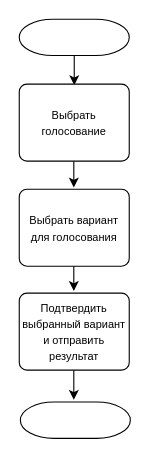
Image size: 150x458. Some labels were removed from this diagram. The shapes that lost their labels are listed below. From the top down, each one's centre as x and y in pixels, then its label:
the point at 73,37: Начало
the point at 74,419: Конец
